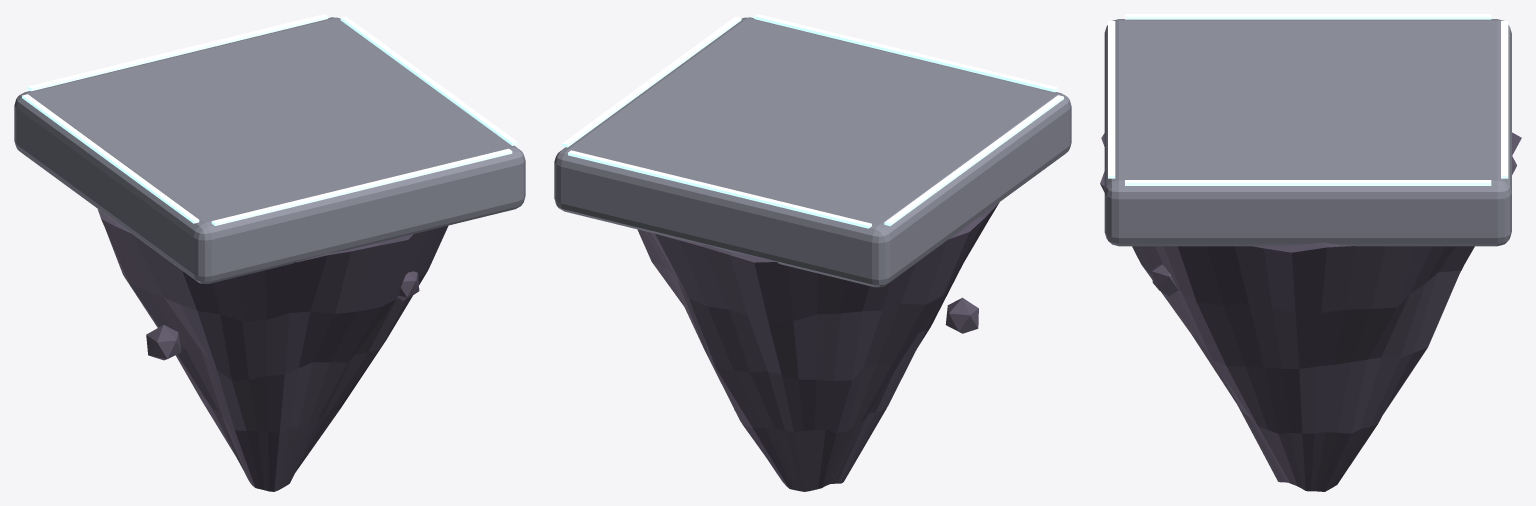
The model's file is tile_3.glb.
3 renders of one model, left to right at view 1: azimuth 30°, elevation 25°; view 2: azimuth 150°, elevation 25°; view 3: azimuth 270°, elevation 25°, orthographic. The views are drawn at different scales.
Visible parts, largest first — view 1: Cube; view 2: Cube; view 3: Cube.
Part boxes in pixels (x1,y1,x2,y2): Cube: (14,14,525,491); Cube: (554,14,1071,491); Cube: (1100,14,1521,491).
Size of the model in its own units: 4.11 by 4.17 by 4.14.
